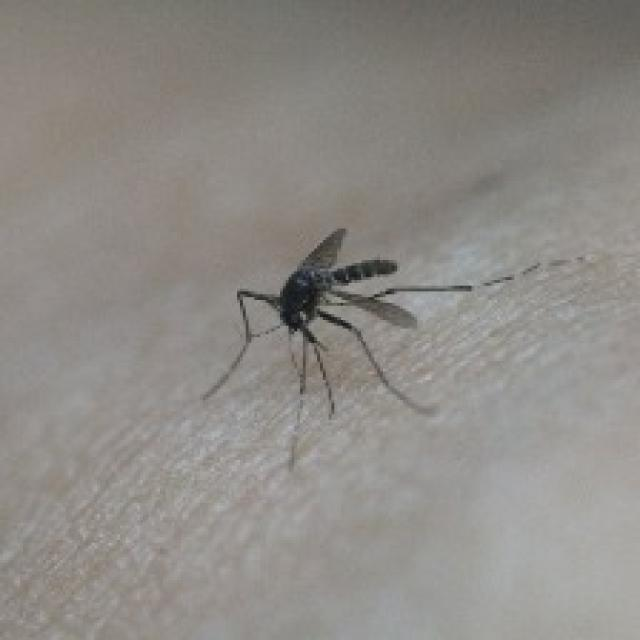aedes: (170, 206, 569, 471)
